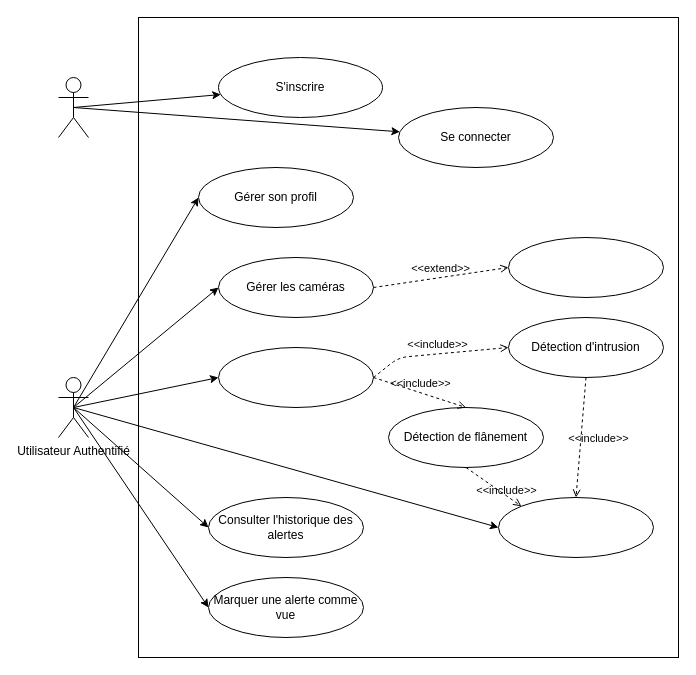
Image size: 696x675. Some labels were removed from this diagram. Each missing label, with the centre of its shape:
Définir une zone protégée: the point at 586,267
Recevoir une alerte: the point at 576,527
Visiteur: the point at 73,107
Visualiser un flux vidéo: the point at 296,377
